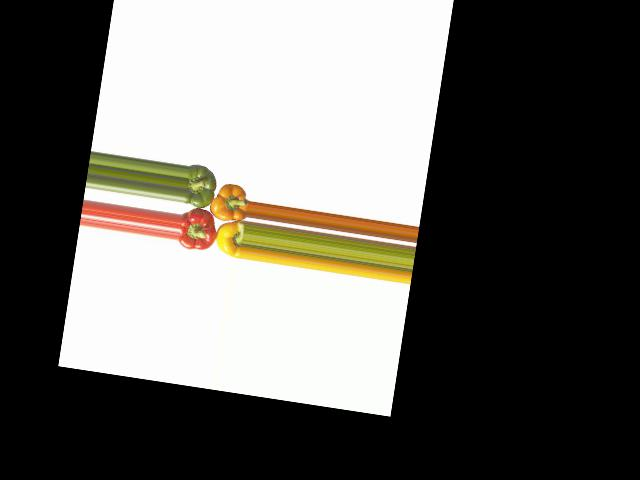bell_pepper: (211, 214, 246, 259)
